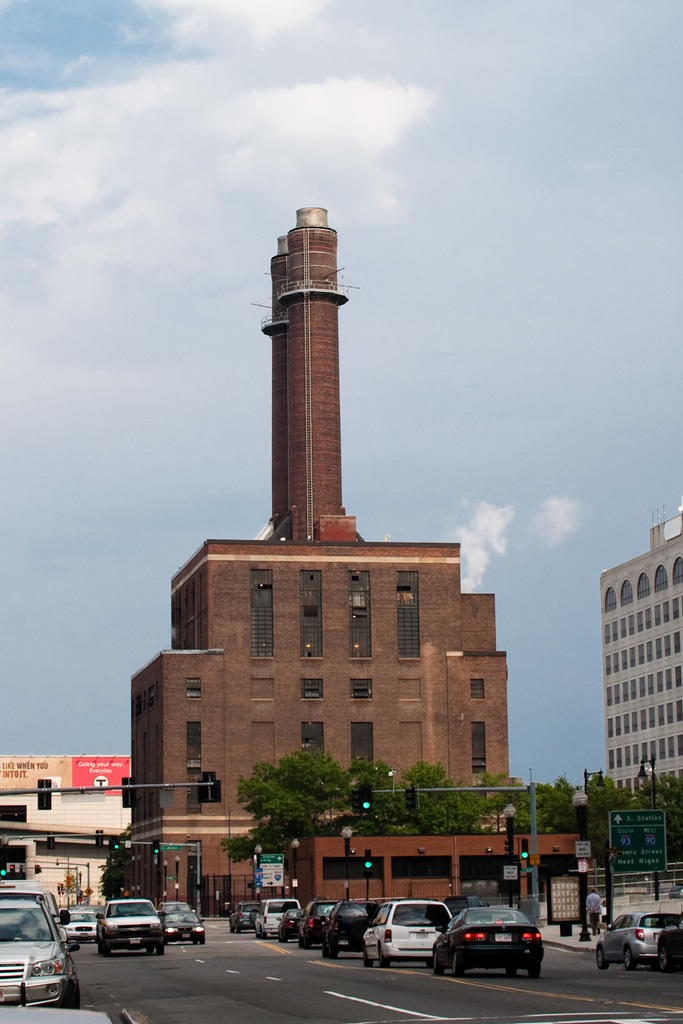Car: (0, 884, 205, 1023), (229, 896, 544, 981), (585, 912, 682, 975), (646, 914, 682, 977)
